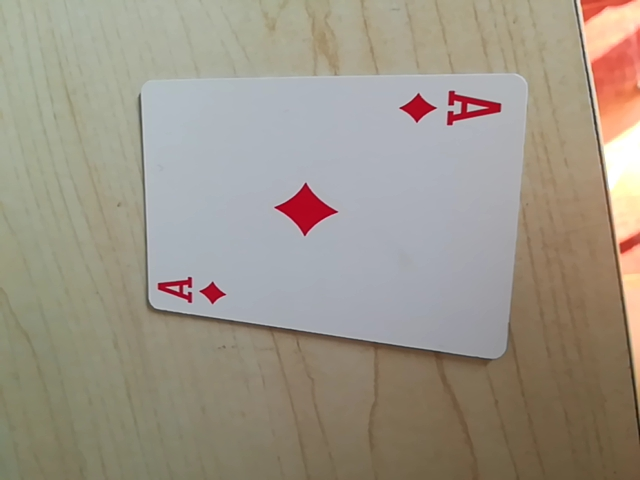fk a: (400, 86, 505, 133), (154, 269, 234, 311)
